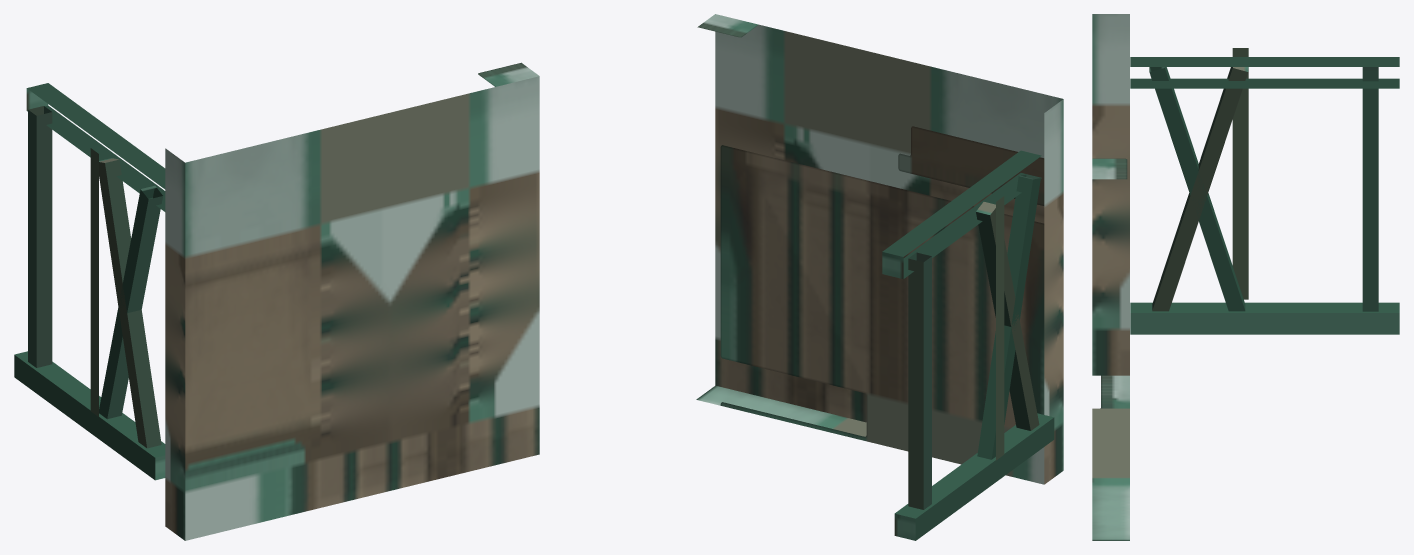
The model's file is section-4.obj.
3 renders of one model, left to right at view 1: azimuth 30°, elevation 25°; view 2: azimuth 150°, elevation 25°; view 3: azimuth 270°, elevation 25°, orthographic. The views are drawn at different scales.
Size of the model in its own units: 0.8835 by 0.869 by 0.6695.
